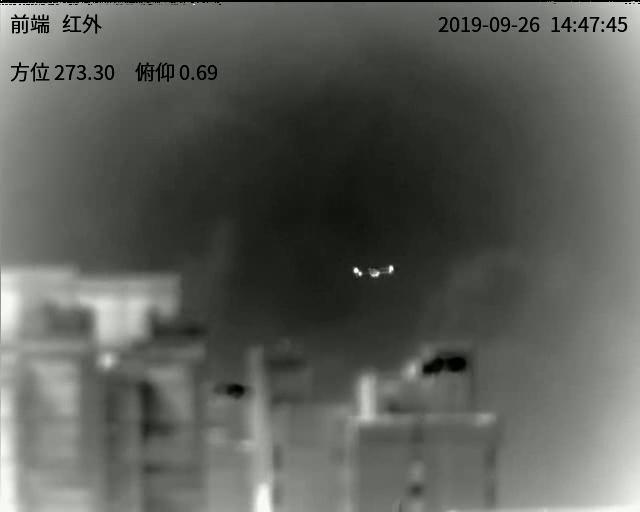DRONE: (351, 263, 394, 279)
